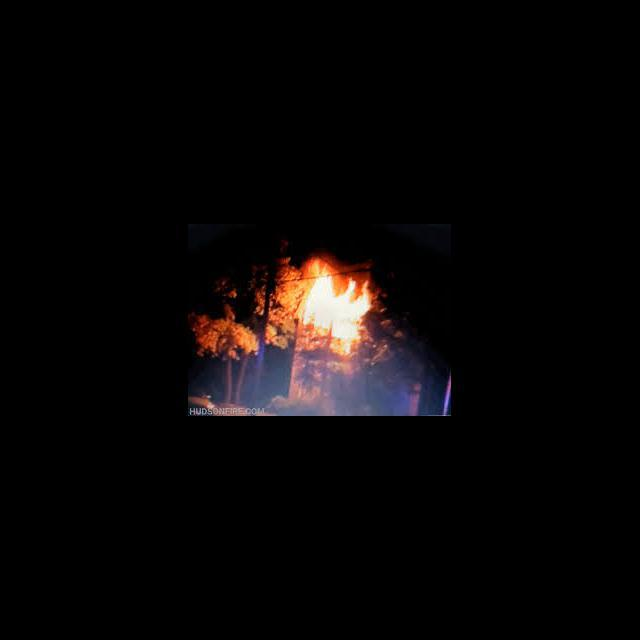Fire: (292, 259, 379, 340)
